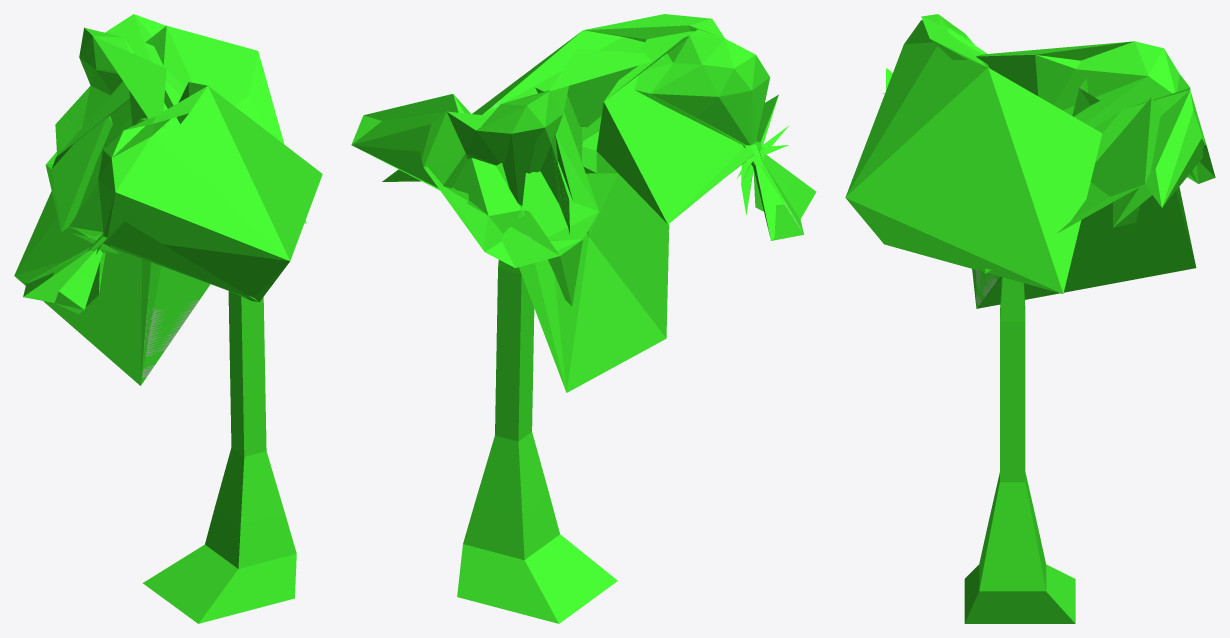
File: Tree.glb
The picture shows the model from 3 angles, left to right: view 1: azimuth 30°, elevation 25°; view 2: azimuth 150°, elevation 25°; view 3: azimuth 270°, elevation 25°; orthographic projection. The views are drawn at different scales.
Visible parts, largest first — view 1: Cube; view 2: Cube; view 3: Cube.
Boxes of the visible parts, bbox=[...] form: Cube: bbox=[14, 14, 322, 623]; Cube: bbox=[351, 14, 816, 623]; Cube: bbox=[845, 14, 1215, 623].
Bounding box in the file's own units: 7.24 × 10.53 × 6.67.
1 material, 1 textured.
